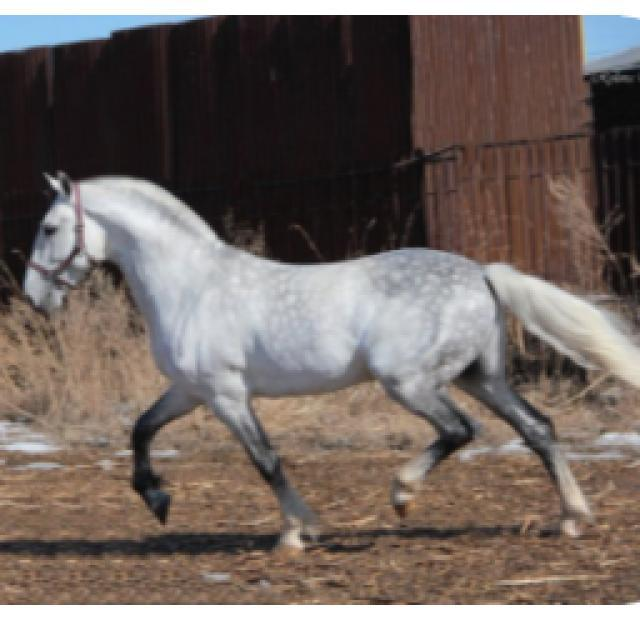Horse: (15, 160, 638, 555)
